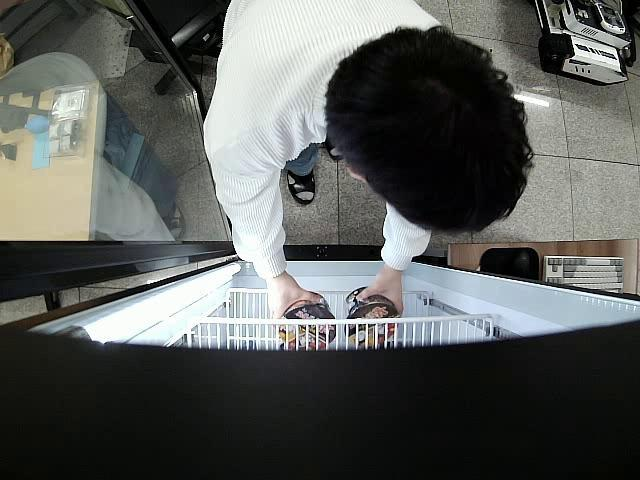07_buldak_L: (274, 292, 338, 348), (346, 287, 400, 348)
